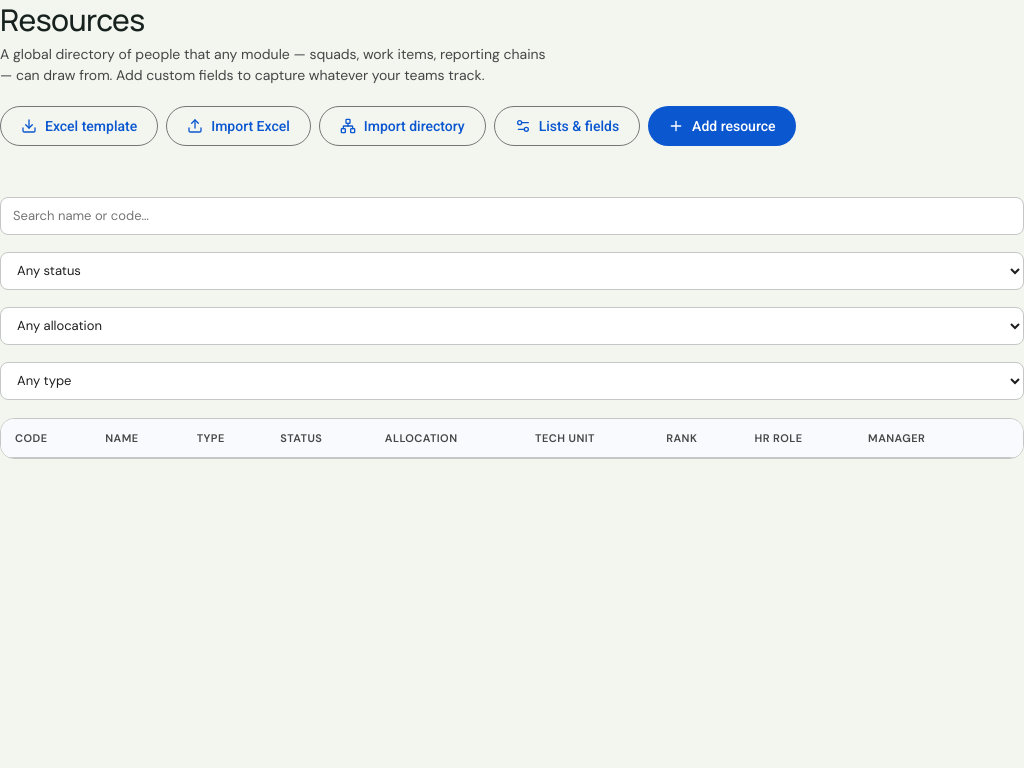
Scenario: imports LDAP resources with the selected connector and filter
This screenshot has width=1024, height=768.
Click the button "Import directory": (402, 126) 319,106 -> 486,146
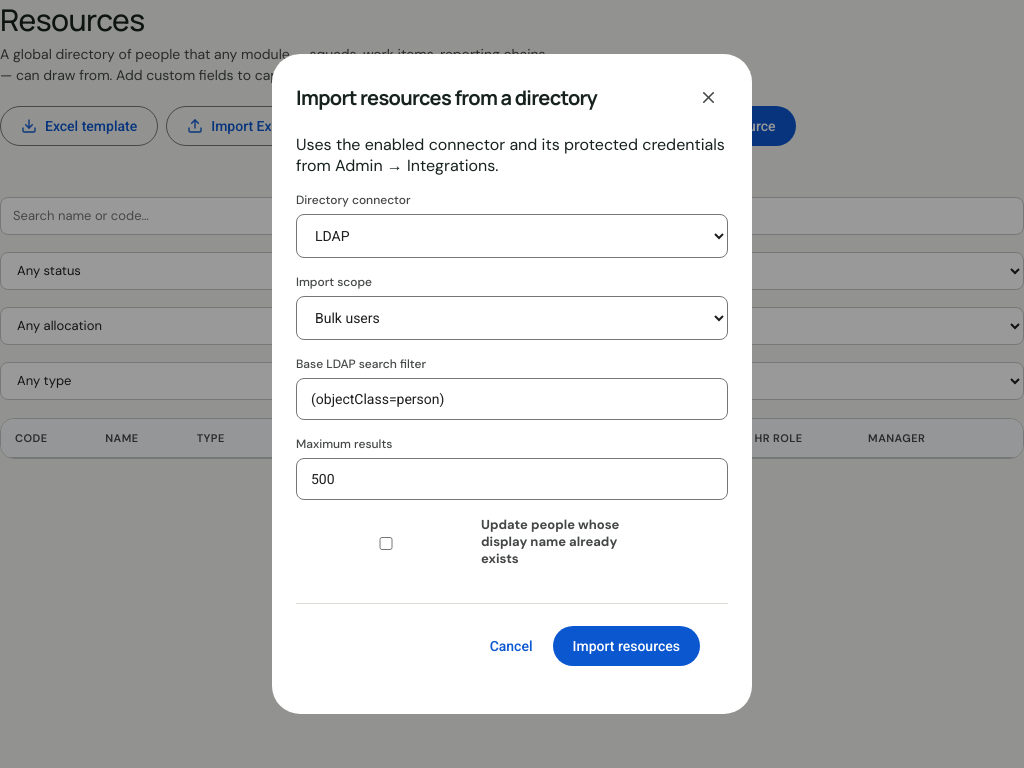
Select "Active Directory" in the dropdown labelled "Directory connector": (512, 236) 296,214 -> 728,258
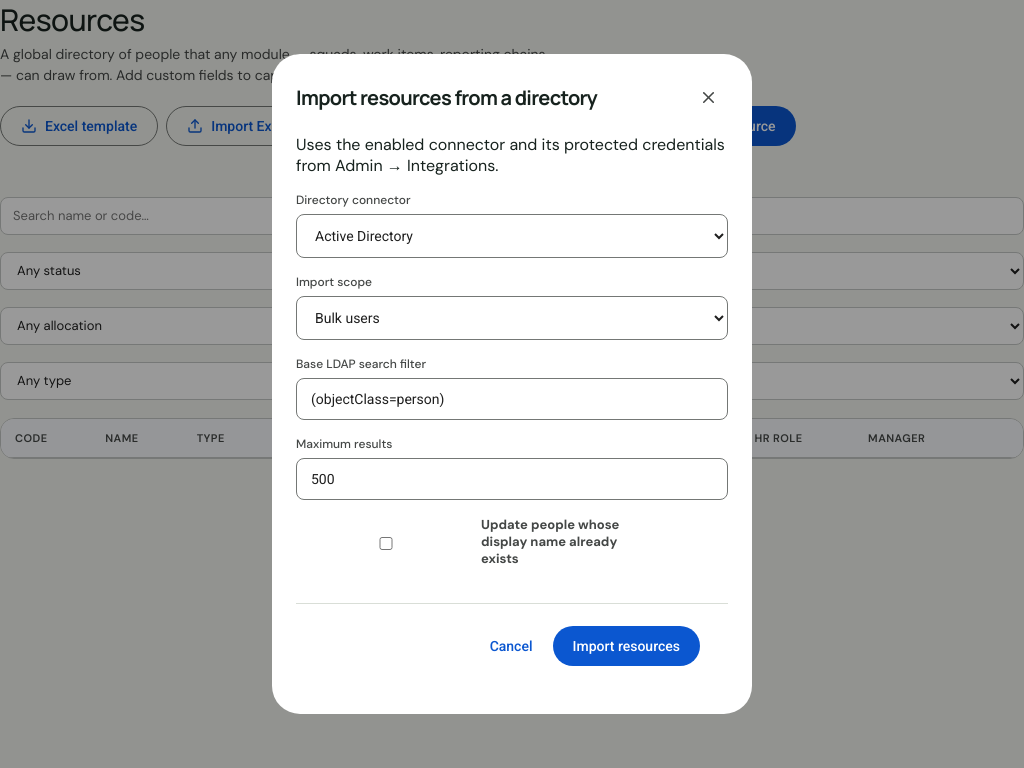
Replace the text in the field labelled "Base LDAP search filter" with "(department=Platform)": (512, 399) 296,378 -> 728,420
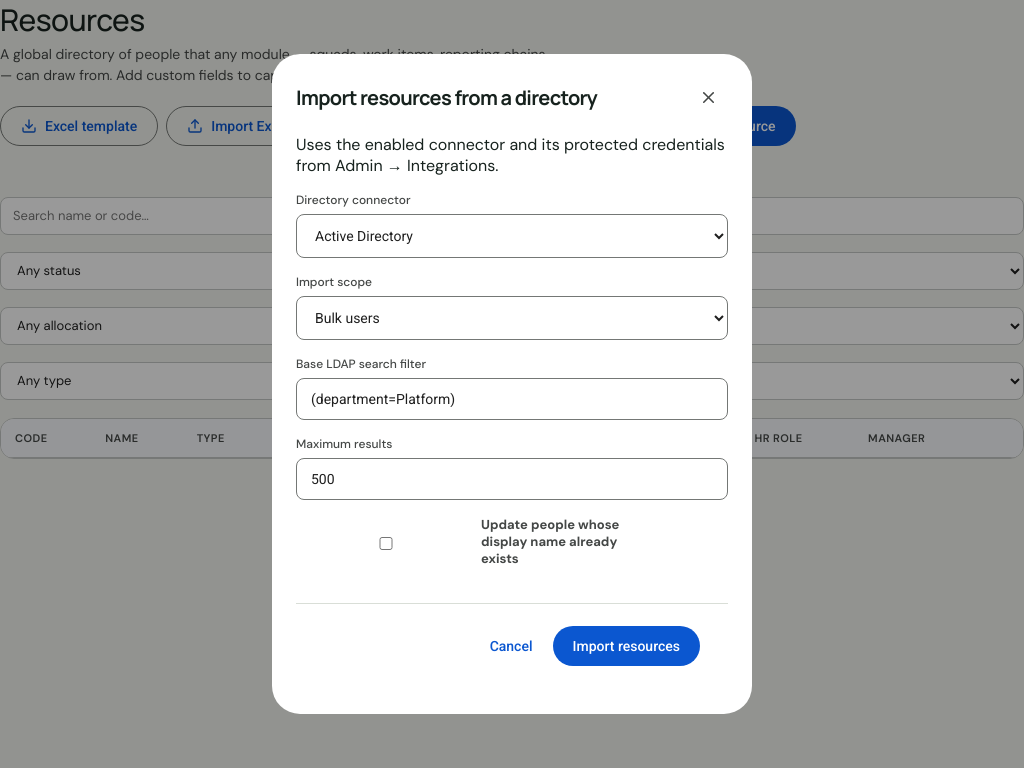
Replace the text in the number field labelled "Maximum results" with "250": (512, 479) 296,458 -> 728,500
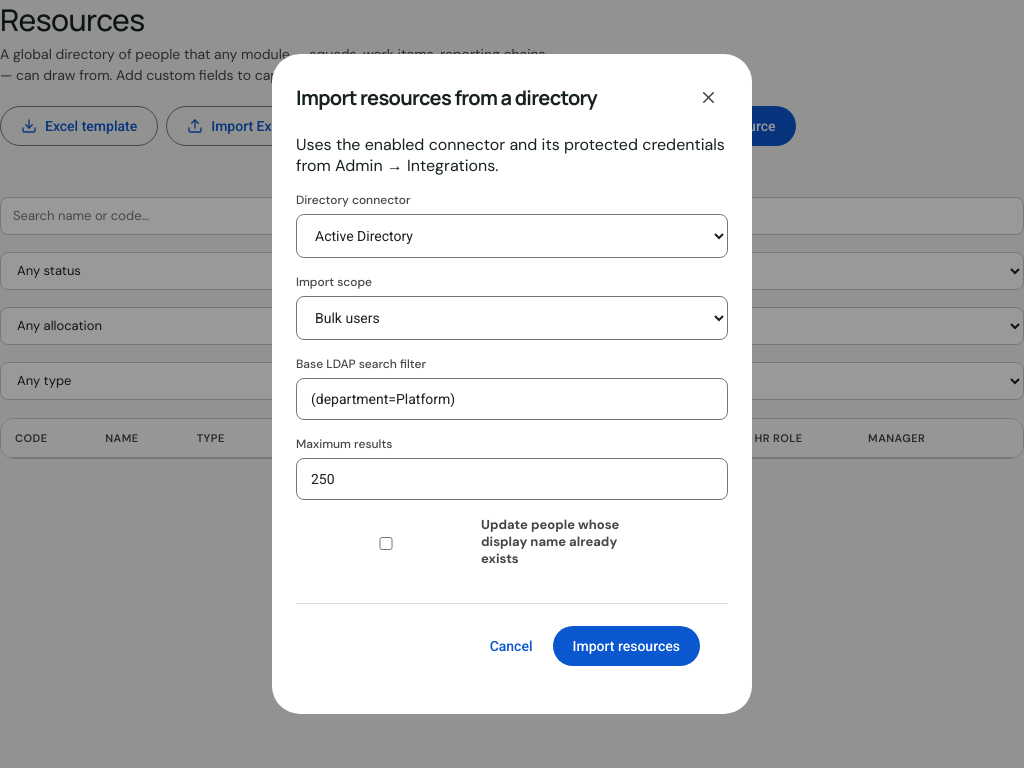
Click the button "Import resources": (626, 646) 552,626 -> 700,666
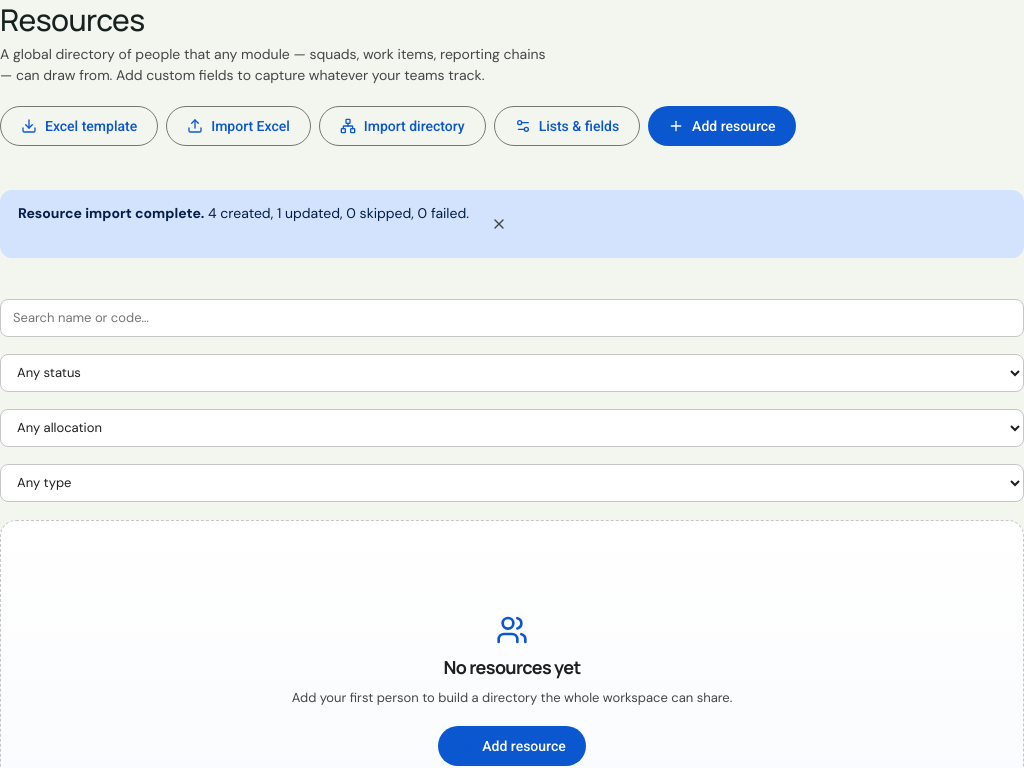
Check: the message shows "4 created, 1 updated", box 0,190 -> 1023,258
